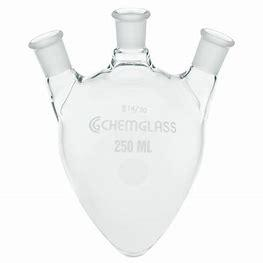Pear shaped flask: (10, 10, 240, 255)
